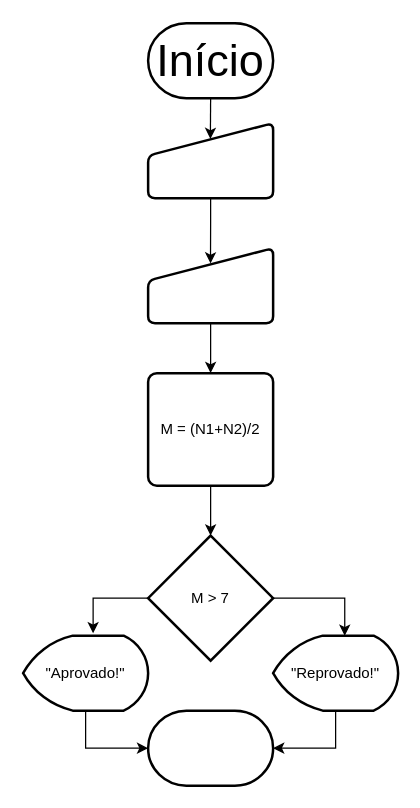
The diagram is 420 pixels wide and 808 high, and some of its shapes have lost their labels. The box of each missing label's shape, as (x1, y1, x2, y2) in pixels:
Final: (146, 709, 274, 786)
N1: (146, 121, 274, 199)
N2: (146, 246, 274, 324)
